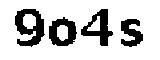4: (78, 5, 115, 50)
9: (10, 7, 44, 50)
o: (45, 15, 77, 51)
s: (117, 18, 146, 50)
